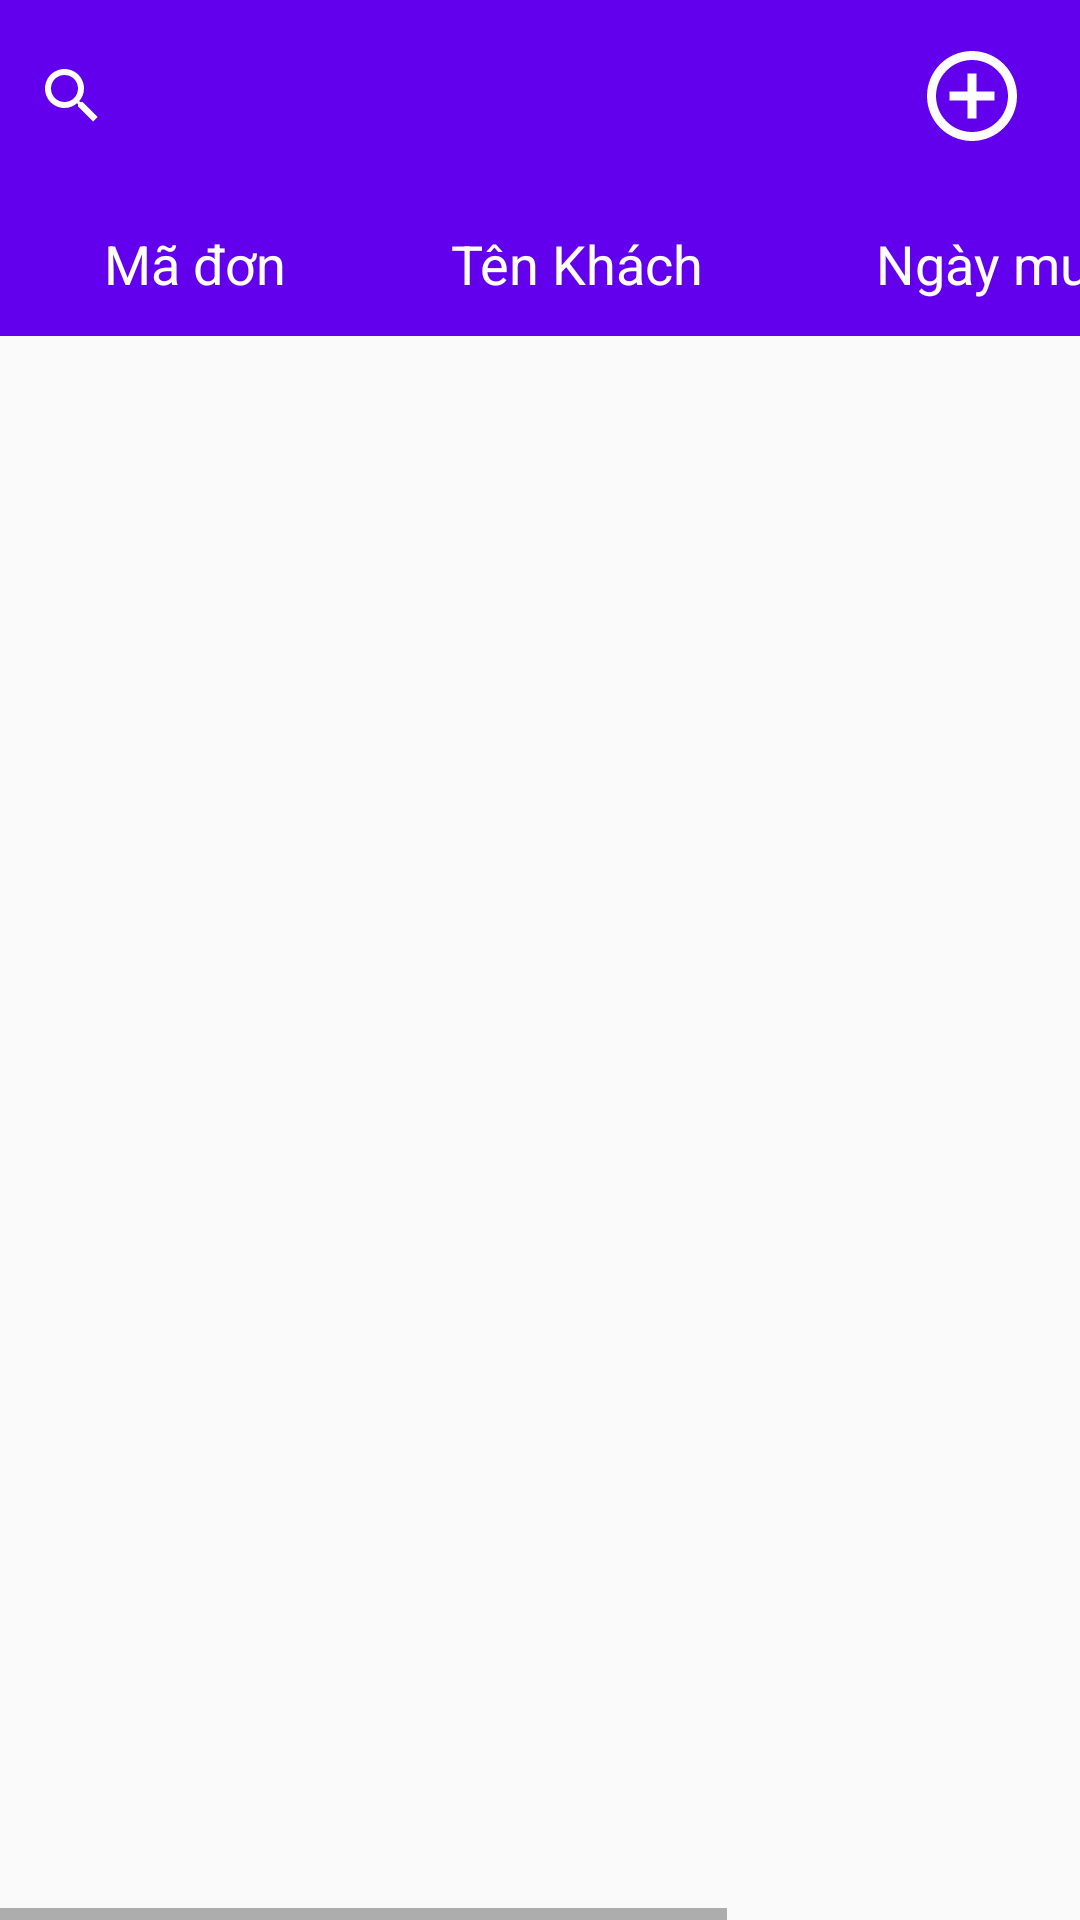

Where to tap for icons on this 1080px×1920px app screen, as [x,y]:
Tạo mới: [972,96]
